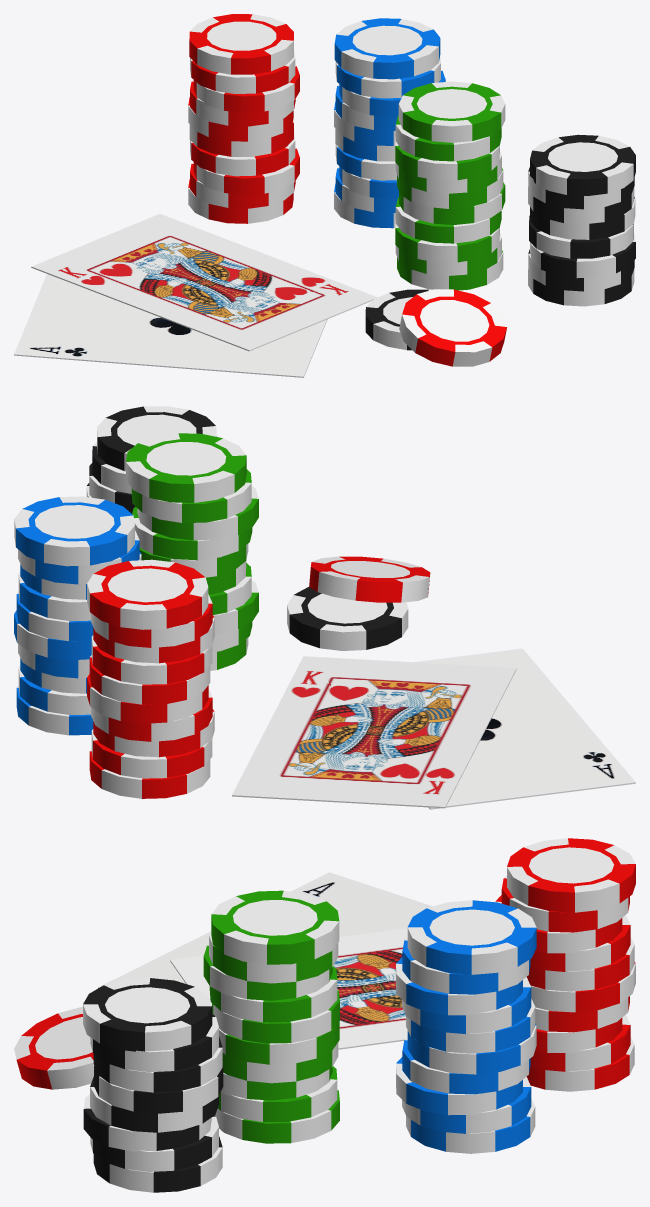
The model's file is PokerChipsAndCards.fbx.
3 renders of one model, top to bottom at view 1: azimuth 30°, elevation 25°; view 2: azimuth 150°, elevation 25°; view 3: azimuth 270°, elevation 25°, orthographic. The views are drawn at different scales.
Visible parts, largest first — view 1: Plane_2, Plane_3, Cylinder_49, Cylinder_39, Cylinder_29, Cylinder_48, Cylinder_9, Cylinder_43, Cylinder_18, Cylinder_33, Cylinder_38, Cylinder_13 (+30 smaller); view 2: Plane_2, Plane_3, Cylinder_9, Cylinder_39, Cylinder_29, Cylinder_40, Cylinder_49, Cylinder_48, Cylinder_16, Cylinder_11, Cylinder_30, Cylinder_10 (+25 smaller); view 3: Plane_2, Cylinder_29, Cylinder_39, Cylinder_9, Cylinder_48, Plane_3, Cylinder_49, Cylinder_37, Cylinder_28, Cylinder_45, Cylinder_42, Cylinder_41 (+29 smaller).
Part boxes in pixels (box(x1,y1,x2,y2)): Plane_2: box(31, 214, 377, 351); Plane_3: box(14, 274, 327, 377); Cylinder_49: box(399, 289, 506, 366); Cylinder_39: box(398, 81, 505, 142); Cylinder_29: box(334, 18, 440, 79); Cylinder_48: box(530, 134, 635, 195); Cylinder_9: box(189, 14, 293, 74); Cylinder_43: box(530, 233, 635, 278); Cylinder_18: box(190, 50, 295, 93); Cylinder_33: box(395, 219, 499, 262); Cylinder_38: box(395, 137, 499, 180); Cylinder_13: box(190, 132, 295, 176); Plane_2: box(232, 656, 516, 808); Plane_3: box(414, 648, 635, 809); Cylinder_9: box(87, 559, 208, 629); Cylinder_39: box(126, 433, 246, 502); Cylinder_29: box(14, 496, 134, 566); Cylinder_40: box(287, 587, 408, 650); Cylinder_49: box(309, 556, 430, 602); Cylinder_48: box(97, 406, 216, 471); Cylinder_16: box(91, 635, 212, 684); Cylinder_11: box(91, 729, 212, 778); Cylinder_30: box(131, 469, 251, 522); Cylinder_10: box(89, 749, 210, 798); Plane_2: box(170, 928, 407, 1049); Cylinder_29: box(407, 900, 536, 974); Cylinder_39: box(211, 890, 339, 964); Cylinder_9: box(507, 838, 635, 912); Cylinder_48: box(83, 978, 212, 1051); Plane_3: box(98, 872, 432, 988); Cylinder_49: box(14, 1006, 94, 1089); Cylinder_37: box(209, 966, 337, 1022); Cylinder_28: box(396, 957, 522, 1015); Cylinder_45: box(94, 1066, 223, 1113); Cylinder_42: box(90, 1115, 218, 1171); Cylinder_41: box(93, 1136, 222, 1192).
Bounding box in the file's own units: 590 × 173 × 481.
Materials: 8 (3 with a texture image).
